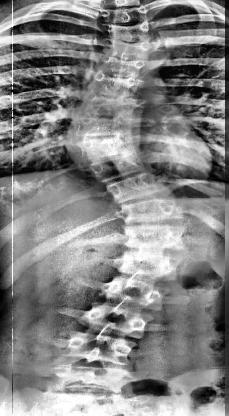Vertebrae: (55, 333, 139, 365), (80, 308, 152, 336), (120, 196, 180, 228), (125, 224, 188, 254), (104, 280, 166, 308), (123, 253, 183, 281), (108, 173, 164, 203), (70, 112, 130, 138), (76, 136, 134, 162), (78, 95, 132, 122), (90, 156, 144, 180), (90, 72, 134, 100), (107, 23, 147, 43), (105, 58, 141, 78), (106, 8, 150, 24), (106, 42, 148, 58)
